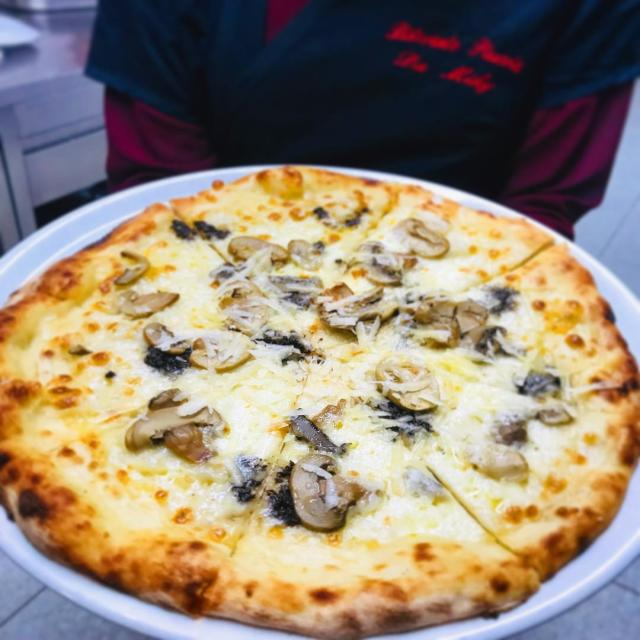mushrooms: (392, 284, 528, 364), (263, 450, 371, 536), (120, 385, 230, 468), (218, 296, 333, 372), (348, 353, 443, 443), (302, 283, 404, 331), (482, 401, 573, 447), (339, 238, 410, 290), (259, 268, 343, 310), (279, 410, 353, 456), (464, 439, 534, 487), (201, 263, 269, 310), (392, 214, 455, 264), (188, 327, 259, 371), (140, 319, 192, 376), (228, 451, 272, 505), (224, 232, 288, 268), (306, 394, 352, 441), (508, 365, 566, 402), (165, 216, 235, 246), (122, 287, 180, 322), (113, 243, 149, 293), (278, 240, 333, 272), (64, 337, 92, 360)
pizza: (0, 163, 640, 640)
